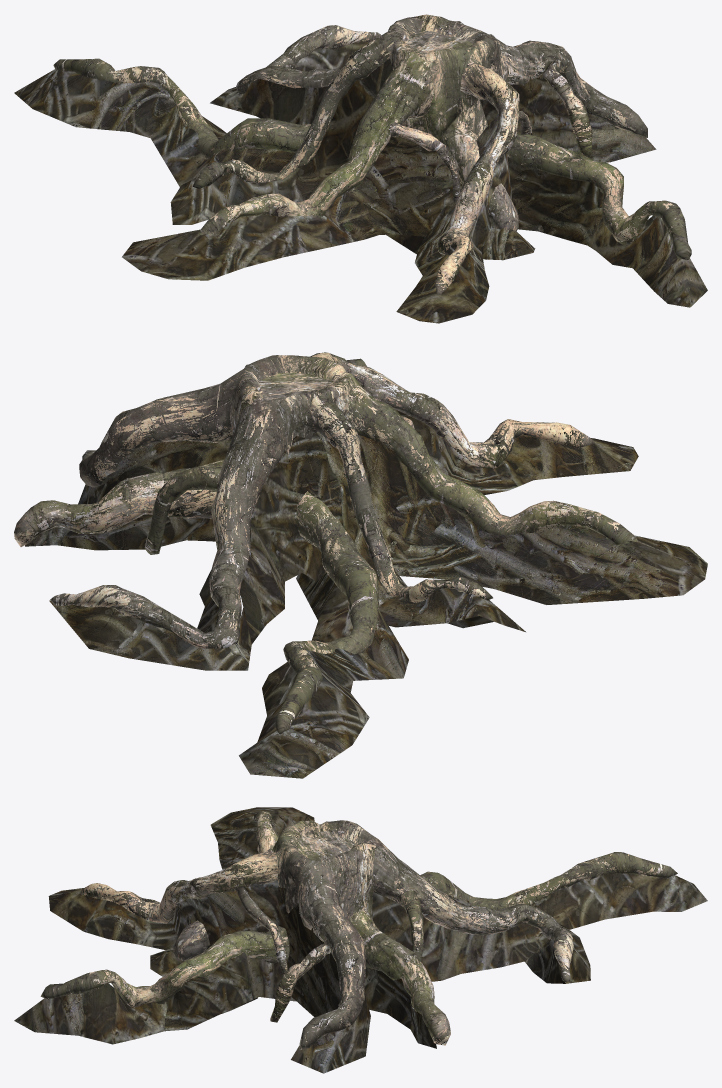
File: SM_TreeRoots_03.fbx
3 renders of one model, top to bottom at view 1: azimuth 30°, elevation 25°; view 2: azimuth 150°, elevation 25°; view 3: azimuth 270°, elevation 25°, orthographic. The views are drawn at different scales.
Visible parts, largest first — view 1: SM_TreeRoots_03; view 2: SM_TreeRoots_03; view 3: SM_TreeRoots_03.
Boxes of the visible parts, <box> form: SM_TreeRoots_03: <box>14,14,707,323</box>; SM_TreeRoots_03: <box>14,352,707,778</box>; SM_TreeRoots_03: <box>14,807,707,1073</box>.
Bounding box in the file's own units: 264 × 333 × 89.13.
2 materials, 2 textured.
